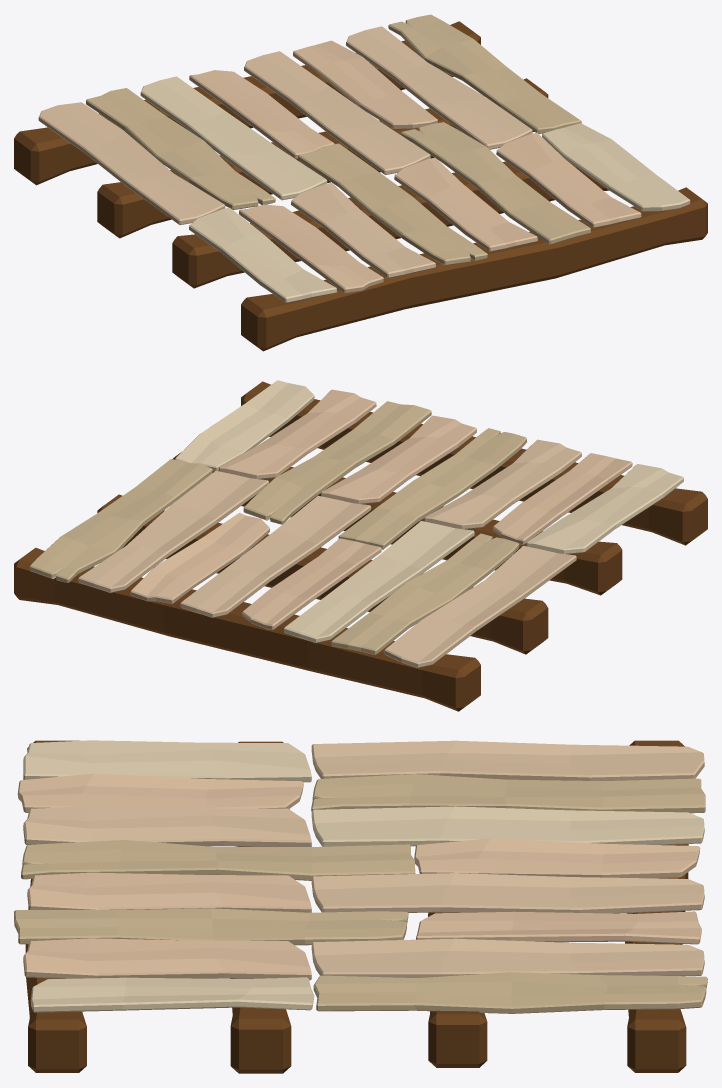
The model's file is Raft.fbx.
3 views of the same model, one above another, from view 1: azimuth 30°, elevation 25°; view 2: azimuth 150°, elevation 25°; view 3: azimuth 270°, elevation 25° (orthographic). The views are drawn at different scales.
Visible parts, largest first — view 1: Cube.016, Cube.014, Cube.006, Cube.009, Cube, Cube.012, Cube.001, Cube.008, Cube.004, Cube.015, Cube.002, Cube.003 (+8 smaller); view 2: Cube.017, Cube.014, Cube.006, Cube.009, Cube, Cube.001, Cube.012, Cube.004, Cube.008, Cube.015, Cube.003, Cube.011 (+8 smaller); view 3: Cube.006, Cube, Cube.014, Cube.009, Cube.001, Cube.012, Cube.008, Cube.004, Cube.003, Cube.011, Cube.015, Cube.007 (+8 smaller).
Boxes of the visible parts, x1,y1,x2,y2 form: Cube.016: (241,187,707,351); Cube.014: (38,102,225,224); Cube.006: (244,51,430,174); Cube.009: (140,76,327,200); Cube: (388,14,581,133); Cube.012: (86,88,275,209); Cube.001: (346,26,532,149); Cube.008: (298,143,487,265); Cube.004: (401,122,590,244); Cube.015: (189,207,337,303); Cube.002: (542,123,690,211); Cube.003: (496,132,641,228); Cube.017: (14,547,480,711); Cube.014: (384,546,576,668); Cube.006: (180,495,371,617); Cube.009: (284,521,474,643); Cube: (29,459,212,582); Cube.001: (78,471,268,593); Cube.012: (331,533,519,655); Cube.004: (243,401,431,524); Cube.008: (338,428,526,549); Cube.015: (526,464,683,554); Cube.003: (219,389,376,479); Cube.011: (424,439,581,529); Cube.006: (311,873,704,913); Cube: (313,972,707,1013); Cube.014: (311,740,704,780); Cube.009: (311,806,704,846); Cube.001: (311,938,704,977); Cube.012: (311,774,705,813); Cube.008: (21,840,415,880); Cube.004: (14,908,408,945); Cube.003: (23,938,311,980); Cube.011: (23,806,311,846); Cube.015: (23,740,311,782); Cube.007: (27,872,311,912).
Bounding box in the file's own units: 2112 × 236 × 2134.
